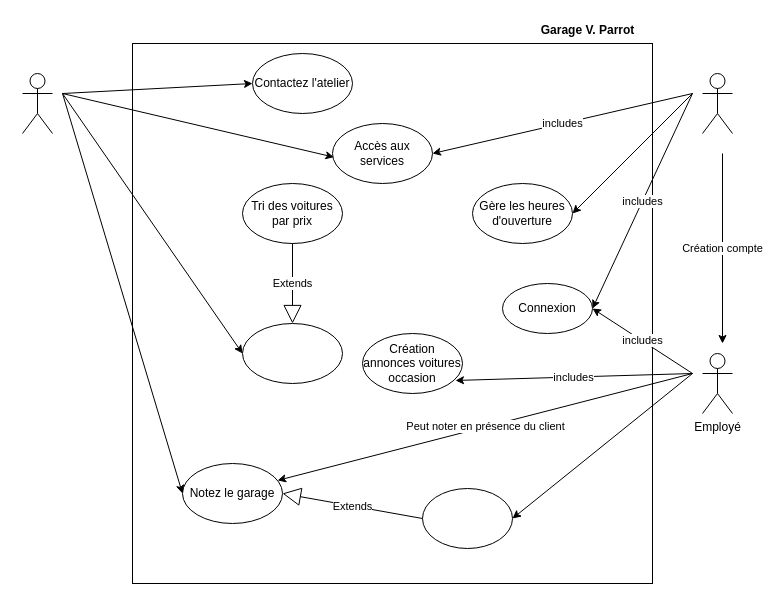
Image size: 780x601. Some labels were removed from this diagram. Each missing label, with the centre of its shape:
"Admin" goes at pixel 717 103.
"Consulte les voitures d'occasion" goes at pixel 292 353.
"Modération note" goes at pixel 467 518.
"Visiteur" goes at pixel 37 103.
